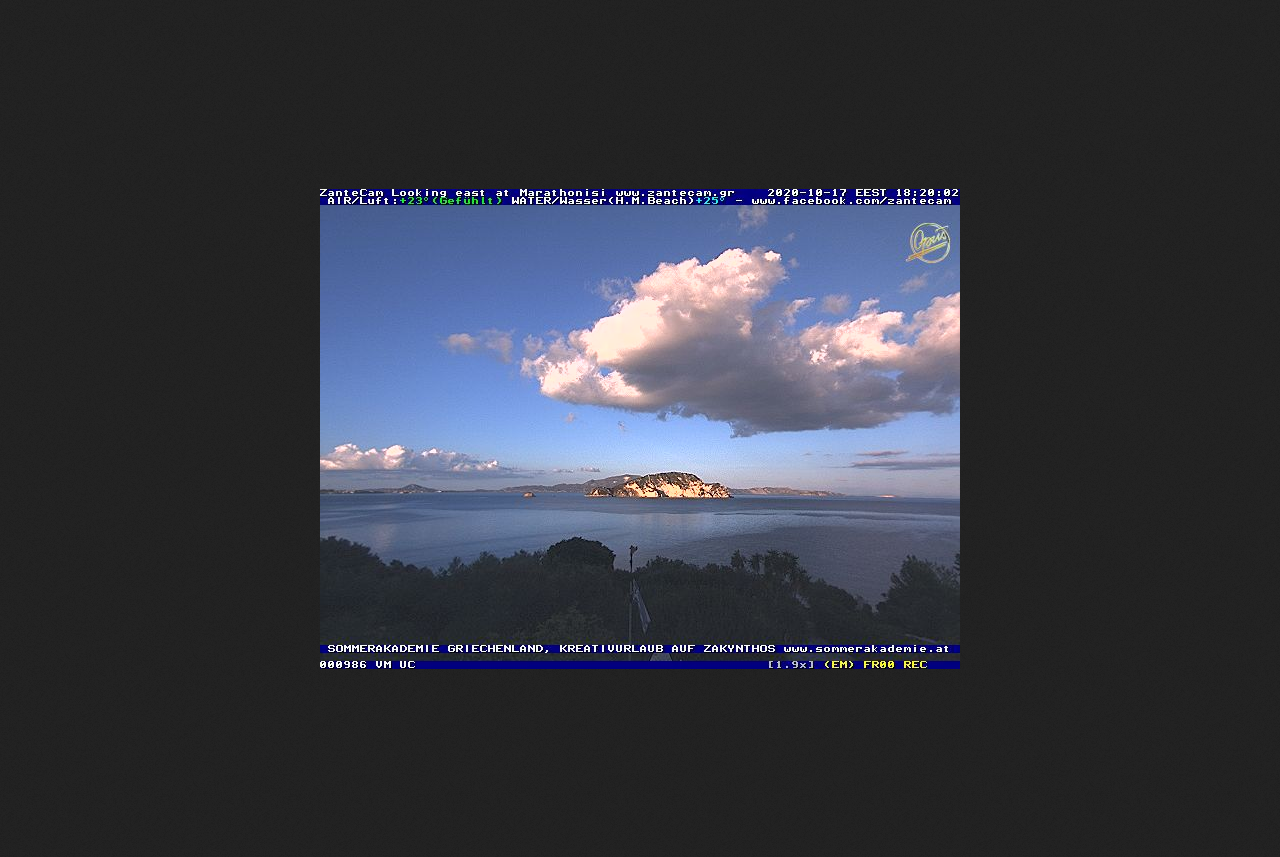maybe: (629, 572, 658, 637)
